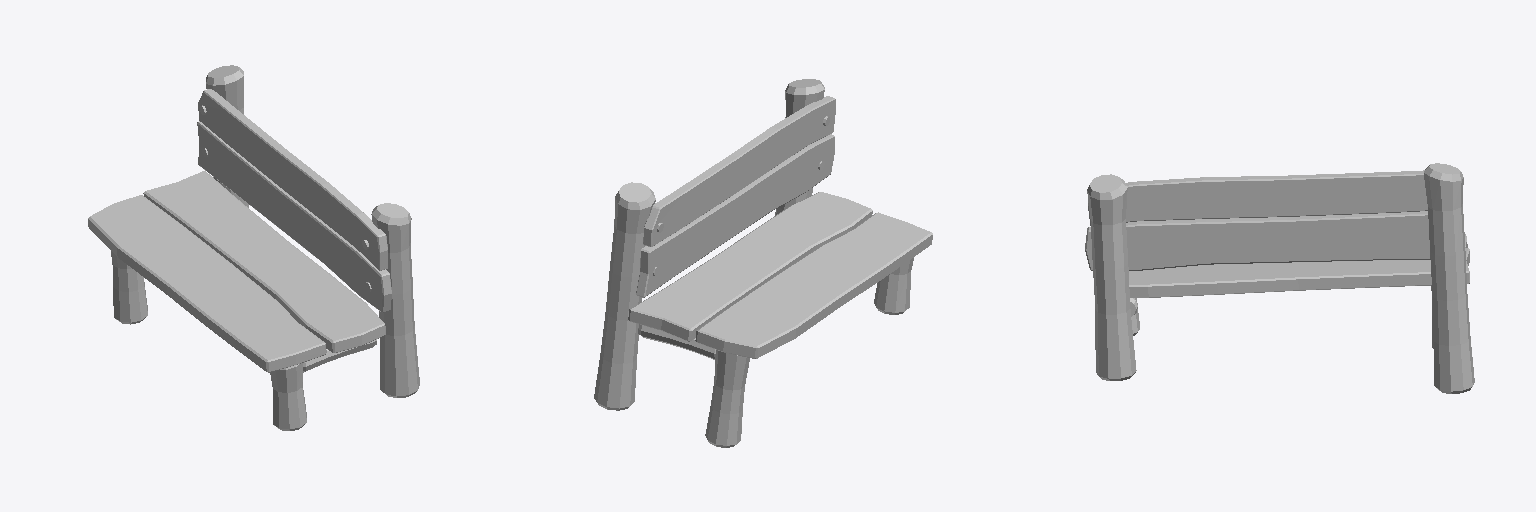
File: benchPrison.obj
3 renders of one model, left to right at view 1: azimuth 30°, elevation 25°; view 2: azimuth 150°, elevation 25°; view 3: azimuth 270°, elevation 25°, orthographic.
Parts seen in each view (by area): view 1: prisonBench; view 2: prisonBench; view 3: prisonBench.
Boxes of the visible parts, <box> form: prisonBench: <box>88,65,419,430</box>; prisonBench: <box>594,79,932,447</box>; prisonBench: <box>1085,163,1474,393</box>.
Size of the model in its own units: 3.72 by 4.89 by 7.5.